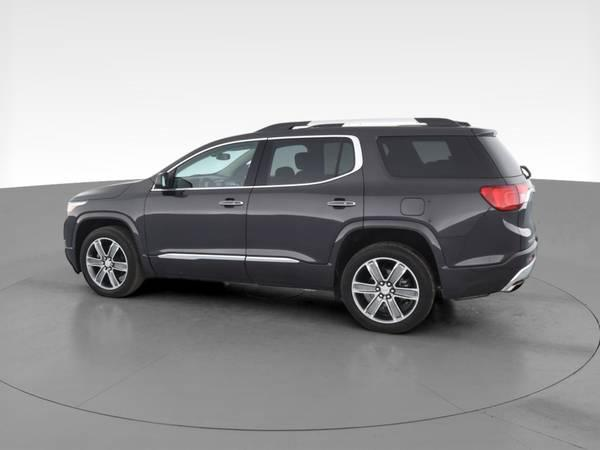Front_Bumper: (65, 247, 79, 272)
Front_Fender: (63, 178, 154, 277)
Front_Left_Door: (143, 188, 251, 289)
Front_Left_Window: (152, 137, 265, 189)
Hood: (70, 181, 138, 201)
Left_Headlight: (67, 201, 88, 214)
Left_Taillight: (479, 181, 529, 212)
Rear_Bumper: (427, 205, 538, 297)
Rear_Fender: (363, 135, 506, 237)
Rear_Left_Door: (246, 167, 362, 300)
Rear_Left_Window: (252, 135, 361, 186)
Rear_Windshield: (476, 136, 525, 184)
Roof: (147, 118, 497, 181)
Tailgate: (517, 195, 536, 246)
Wheel: (341, 241, 436, 336), (78, 224, 143, 296)
